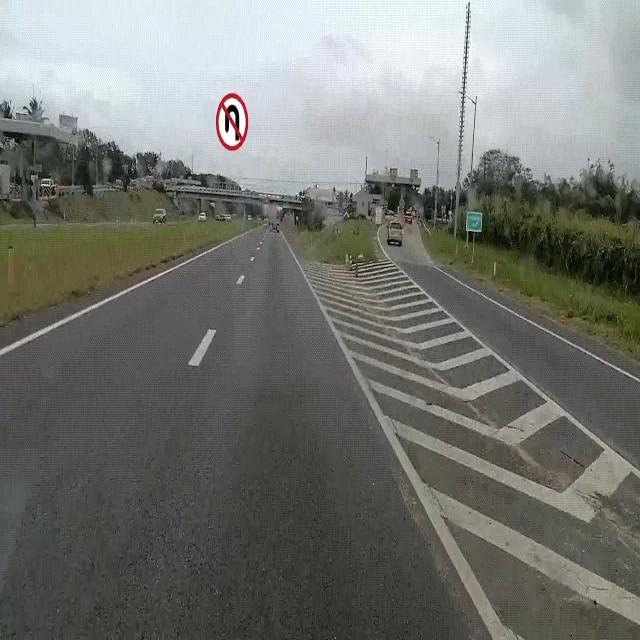Demi-Tour-Interdit: (210, 86, 254, 156)
